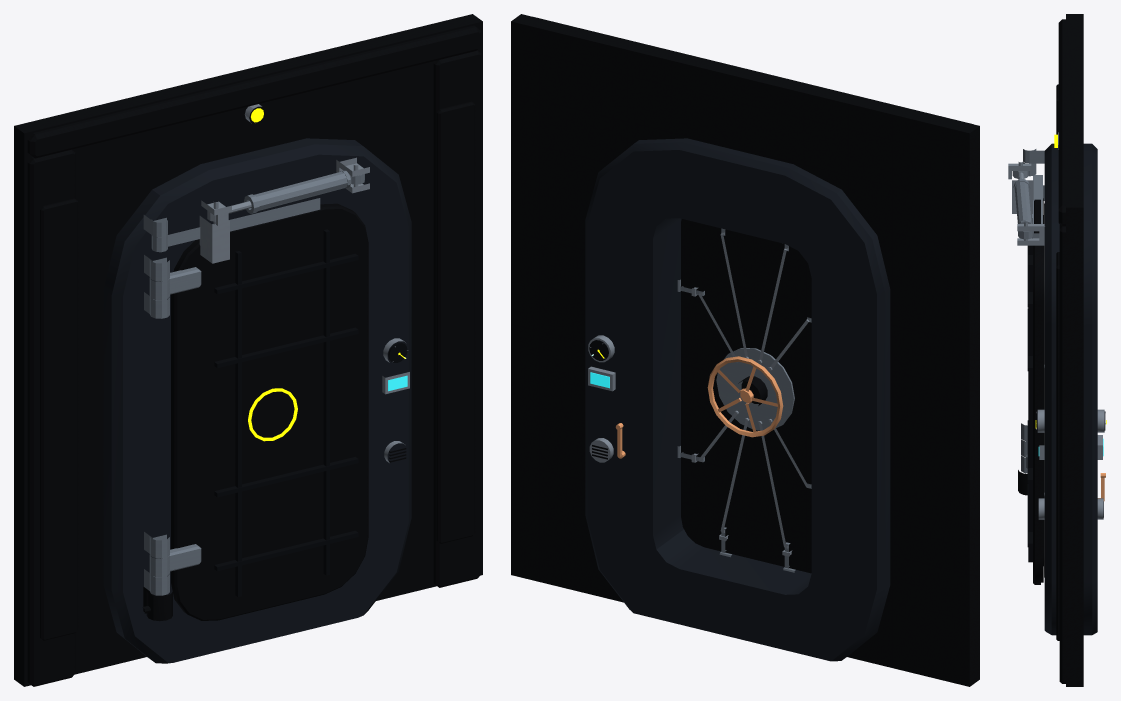
The picture shows the model from 3 angles, left to right: view 1: azimuth 30°, elevation 25°; view 2: azimuth 150°, elevation 25°; view 3: azimuth 270°, elevation 25°; orthographic projection. The views are drawn at different scales.
Visible parts, largest first — view 1: bulkhead_frame, bulkhead_leaf_shell, bulkhead_frame_collar, bulkhead_Rib_back, bulkhead_HingeHeavy_leaf, bulkhead_HingeHeavy_frame, bulkhead_Damper_body, bulkhead_Davit_arm, bulkhead_leaf_damper_mount, bulkhead_Actuator_housing; view 2: bulkhead_frame, bulkhead_frame_collar, bulkhead_leaf_shell, bulkhead_LockWheel, bulkhead_OverrideOrange_Handwheel; view 3: bulkhead_frame, bulkhead_frame_collar, bulkhead_leaf_shell, bulkhead_Rib_back, bulkhead_Damper_body, bulkhead_damper_mount, bulkhead_leaf_damper_mount, bulkhead_Davit_arm, bulkhead_Gauge_housing_back, bulkhead_Davit_bracket, bulkhead_InflatableSeal, bulkhead_Gauge_housing_front (+2 smaller).
Boxes of the visible parts, bbox=[...] form: bulkhead_frame: bbox=[14, 14, 482, 686]; bulkhead_leaf_shell: bbox=[171, 203, 368, 620]; bulkhead_frame_collar: bbox=[103, 138, 411, 663]; bulkhead_Rib_back: bbox=[214, 229, 358, 596]; bulkhead_HingeHeavy_leaf: bbox=[149, 267, 201, 577]; bulkhead_HingeHeavy_frame: bbox=[144, 255, 169, 595]; bulkhead_Damper_body: bbox=[244, 170, 364, 213]; bulkhead_Davit_arm: bbox=[151, 198, 320, 252]; bulkhead_leaf_damper_mount: bbox=[199, 200, 231, 263]; bulkhead_Actuator_housing: bbox=[142, 587, 172, 621]; bulkhead_frame: bbox=[511, 14, 979, 686]; bulkhead_frame_collar: bbox=[585, 138, 890, 661]; bulkhead_leaf_shell: bbox=[681, 219, 811, 573]; bulkhead_LockWheel: bbox=[716, 348, 794, 430]; bulkhead_OverrideOrange_Handwheel: bbox=[707, 356, 783, 437]; bulkhead_frame: bbox=[1056, 14, 1083, 686]; bulkhead_frame_collar: bbox=[1044, 143, 1097, 635]; bulkhead_leaf_shell: bbox=[1033, 198, 1043, 584]; bulkhead_Rib_back: bbox=[1027, 238, 1032, 562]; bulkhead_Damper_body: bbox=[1013, 179, 1033, 239]; bulkhead_damper_mount: bbox=[1017, 222, 1044, 245]; bulkhead_leaf_damper_mount: bbox=[1008, 162, 1033, 213]; bulkhead_Davit_arm: bbox=[1023, 162, 1042, 238]; bulkhead_Gauge_housing_back: bbox=[1097, 409, 1104, 459]; bulkhead_Davit_bracket: bbox=[1023, 149, 1044, 163]; bulkhead_InflatableSeal: bbox=[1044, 203, 1044, 577]; bulkhead_Gauge_housing_front: bbox=[1037, 409, 1044, 459].
Size of what is drawn, in the model's own units: 2.6 by 3 by 0.557.
11 materials, 5 textured.
